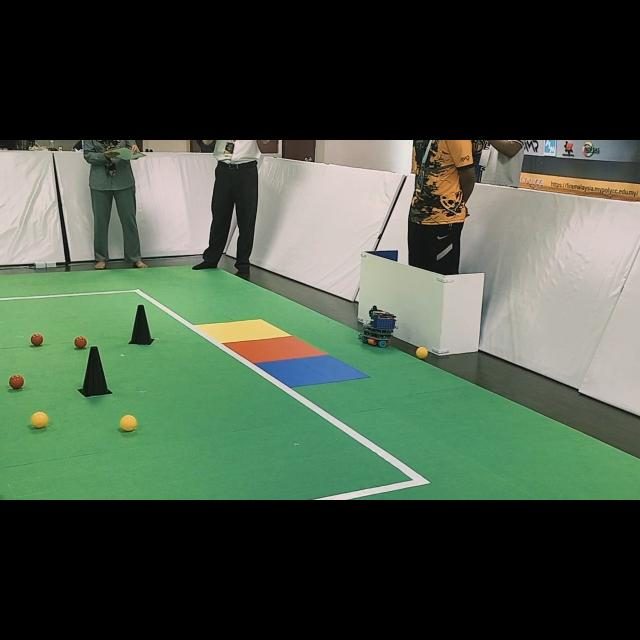ball: (31, 411, 49, 428), (120, 415, 138, 431), (9, 374, 25, 389), (74, 336, 88, 349), (416, 346, 429, 359), (31, 334, 44, 346)
goal: (258, 355, 369, 388), (226, 336, 326, 364), (196, 319, 290, 343)
